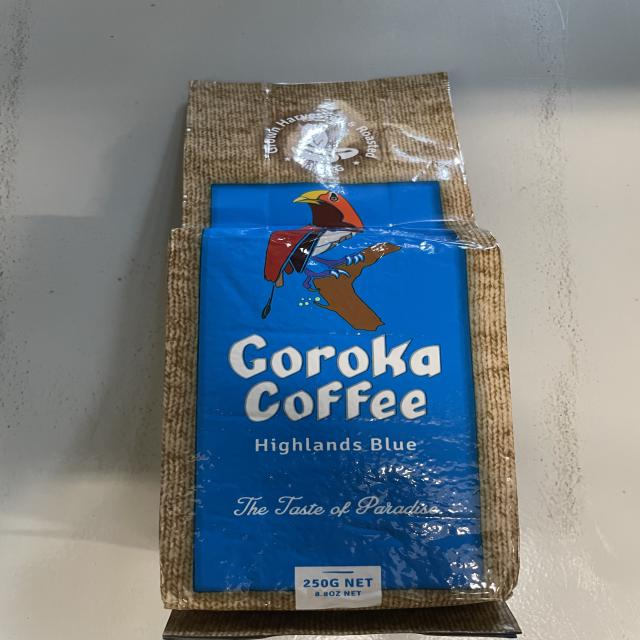object_name: (176, 88, 512, 640)
